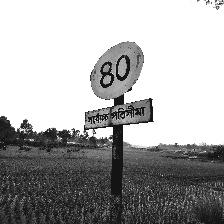Speed-limit: (86, 40, 150, 132)
